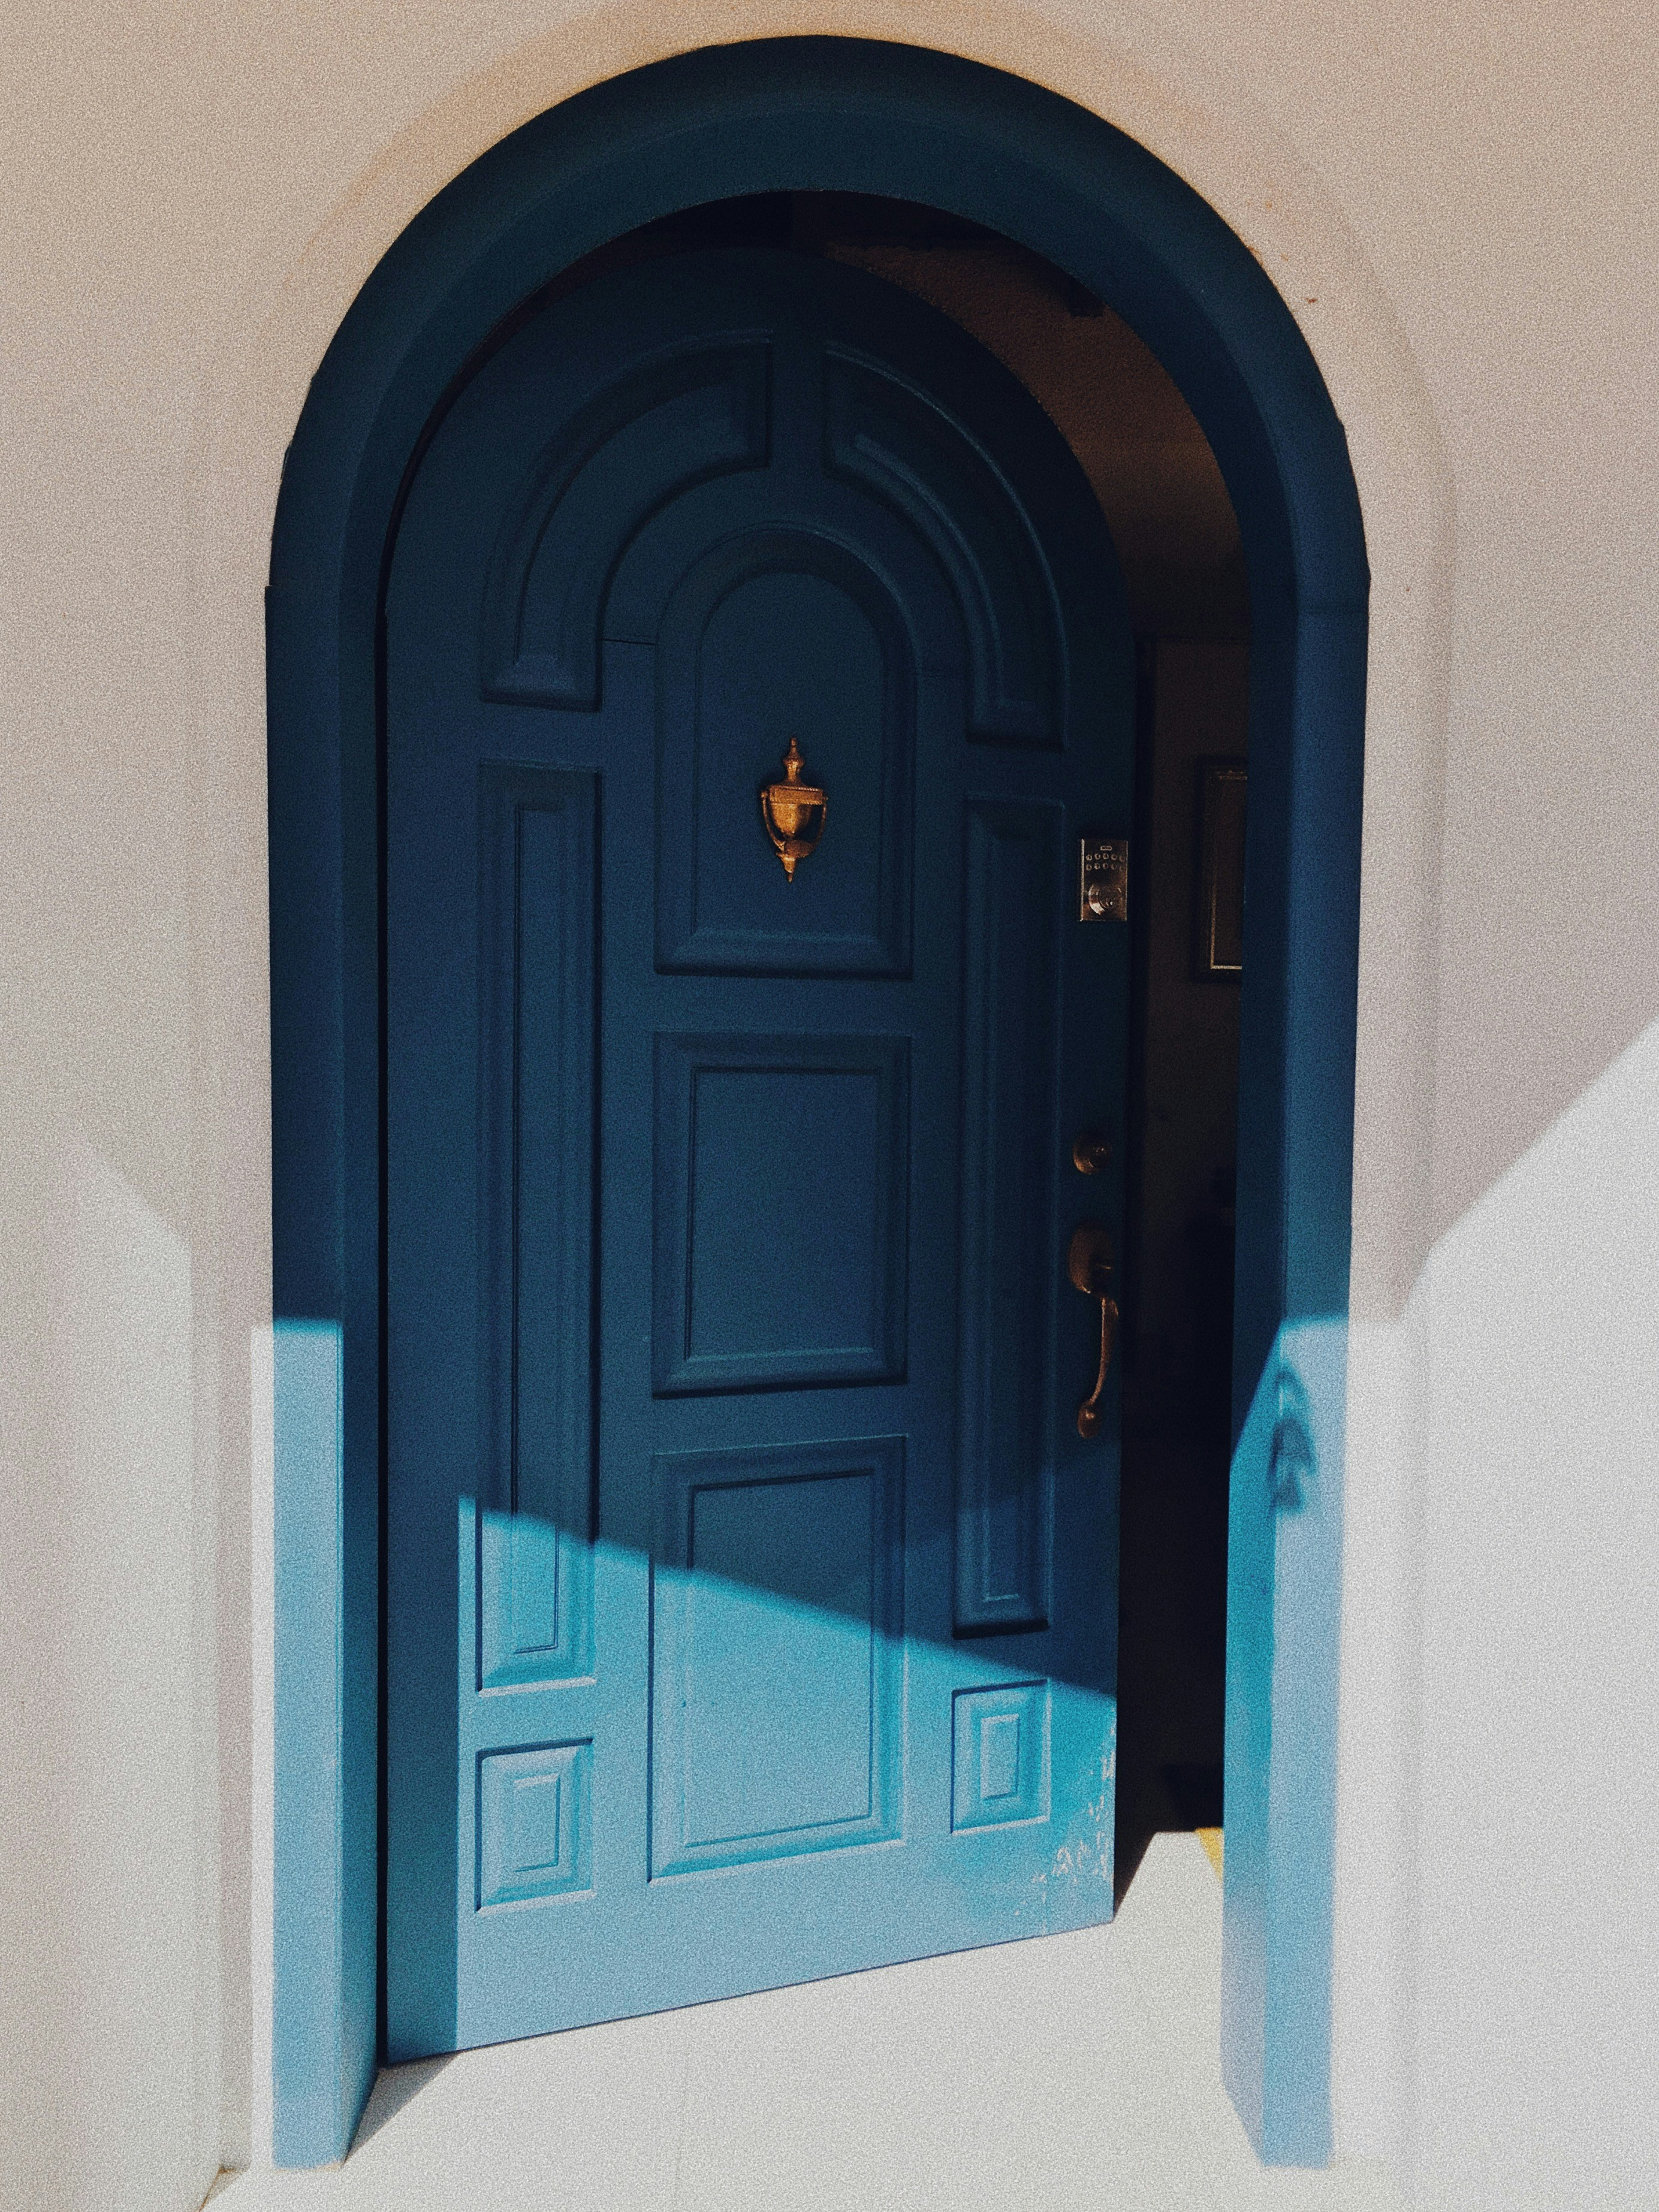door: (173, 41, 1498, 2159)
